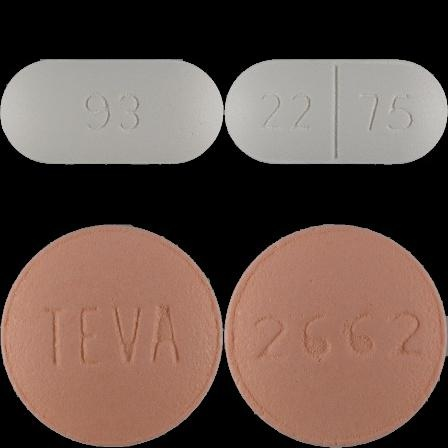0093-2275: (0, 0, 224, 224)
